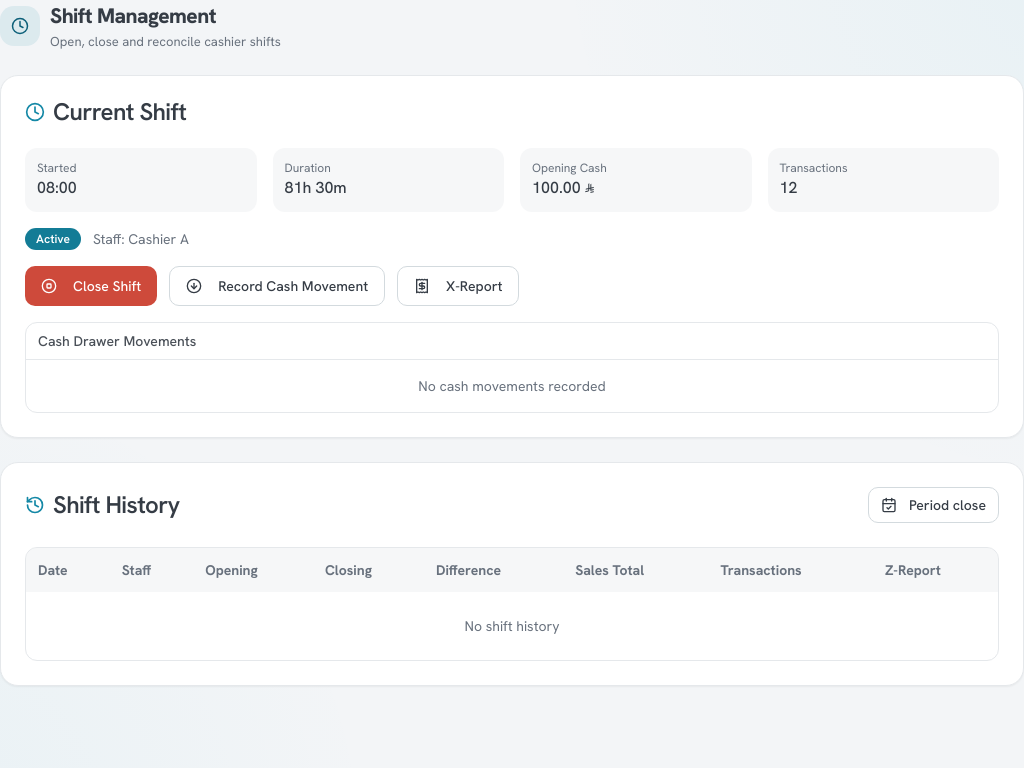
it: ShiftManagement movement-type segmented-control a11y (#226) › announces the active movement type via aria-pressed
// Open the cash-movement dialog (defaults to 'pay_out').
Click the button "Record Cash Movement" at (277, 286), box [169,266,385,306]
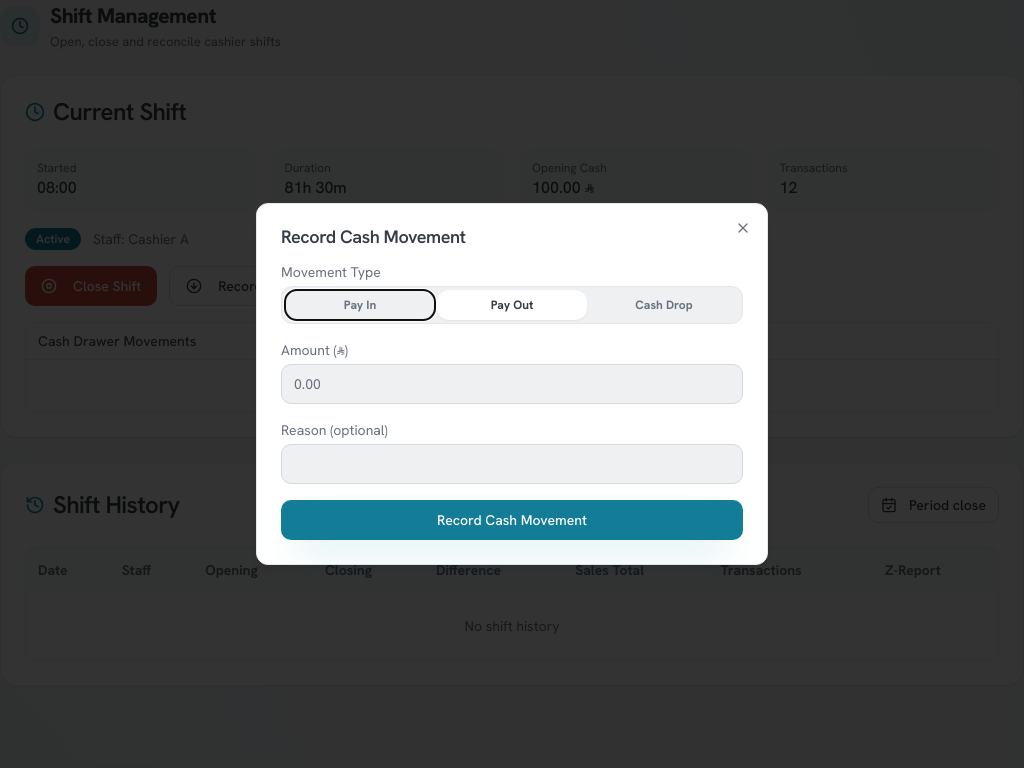
Expected: the button "Pay Out" is shown, [437,290,587,320]
Expected: the button "Pay In" is shown, [285,290,435,320]
Expected: the button "Cash Drop" is shown, [589,290,739,320]
